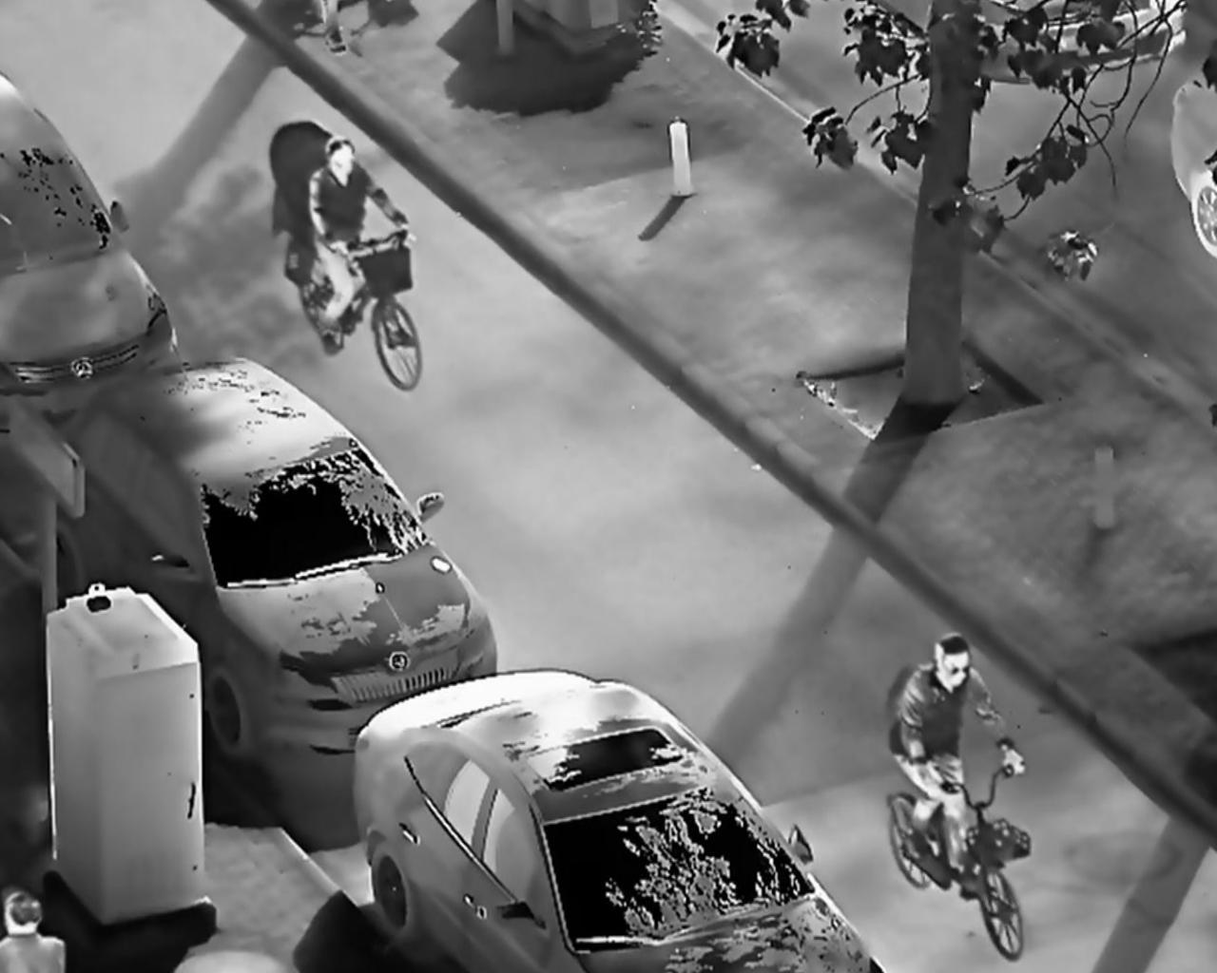person: (895, 629, 1029, 882), (300, 133, 417, 339)
